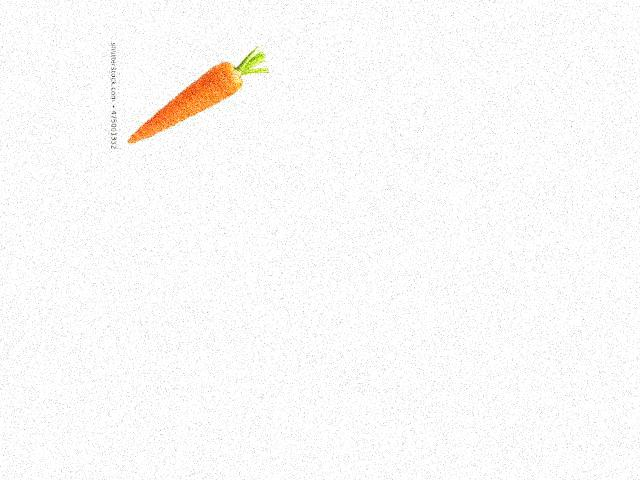carrot: (122, 58, 246, 149)
